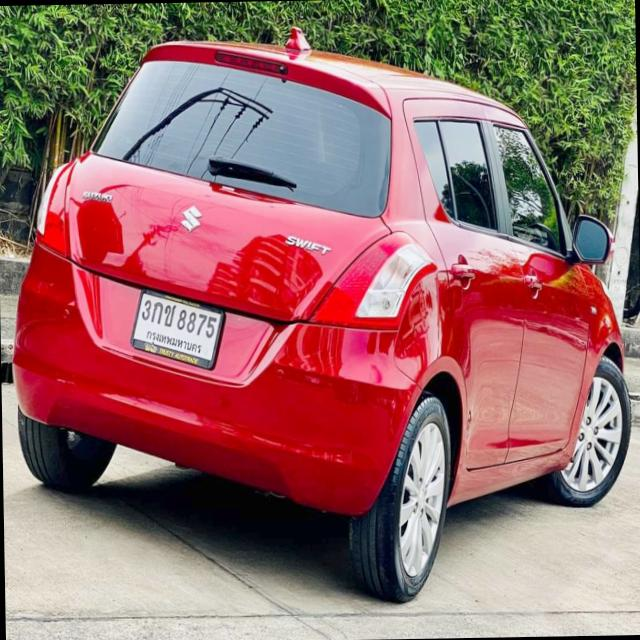license_plate: (125, 279, 228, 374)
